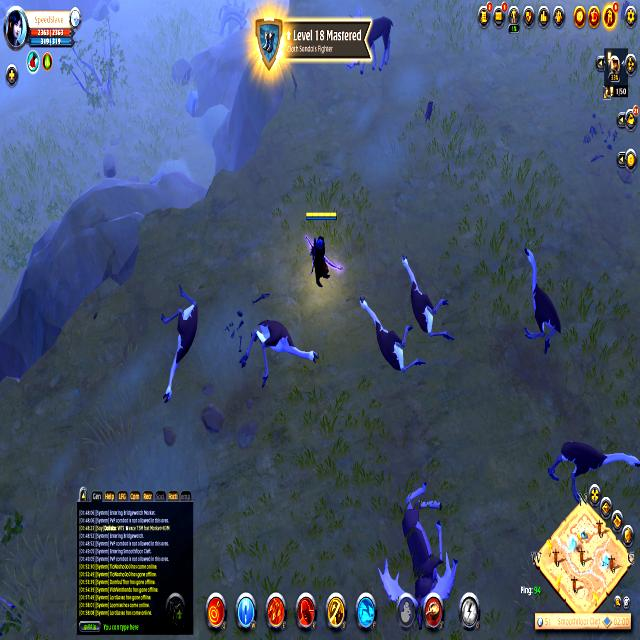mob: (377, 469, 460, 623), (236, 312, 320, 396), (354, 293, 426, 386), (395, 250, 460, 348), (158, 275, 203, 408)
ore: (544, 421, 640, 502), (519, 235, 564, 363), (356, 14, 398, 75)
red: (301, 204, 341, 294)
